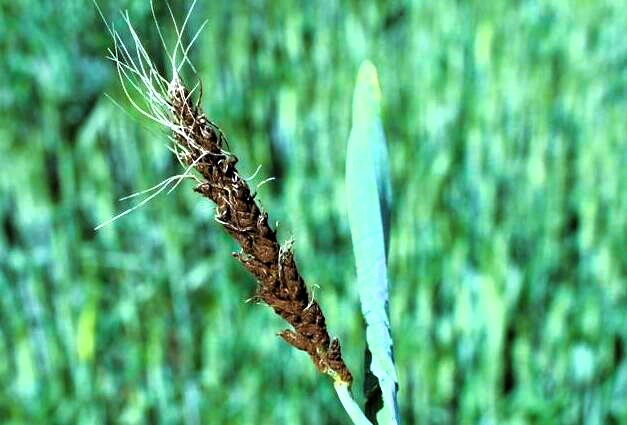Wheat Loose Smut: (173, 115, 315, 312)
